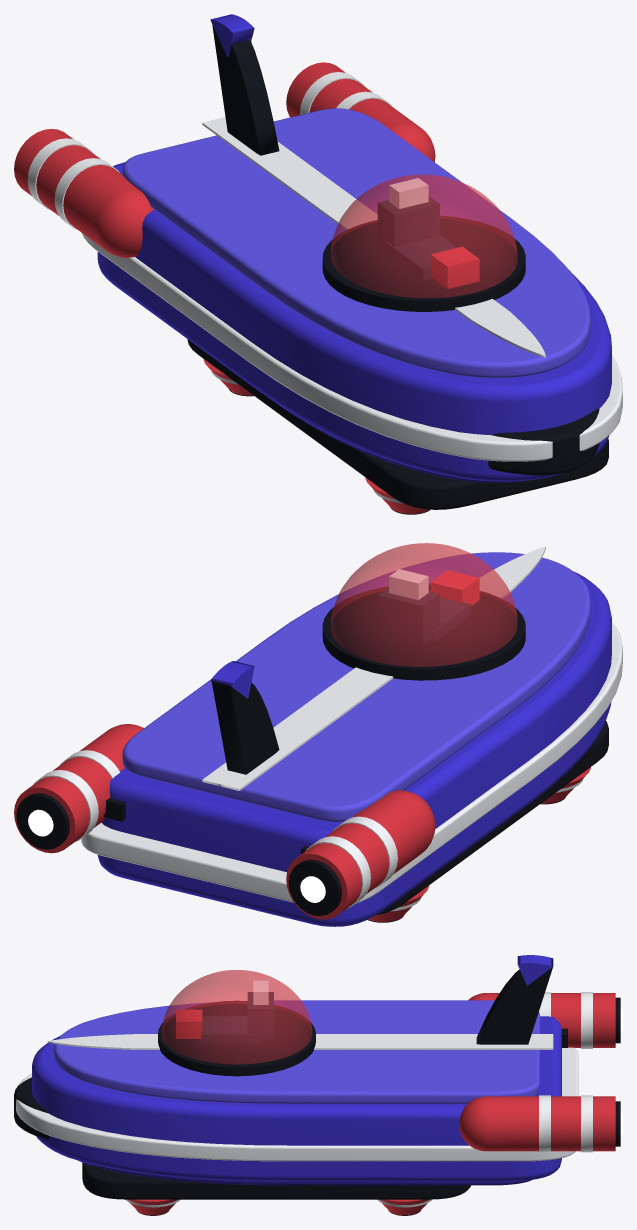
File: enemy_kart.glb
3 views of the same model, one above another, from view 1: azimuth 30°, elevation 25°; view 2: azimuth 150°, elevation 25°; view 3: azimuth 270°, elevation 25° (orthographic). The views are drawn at different scales.
Parts seen in each view (by area): view 1: Hull, Cockpit, ThrusterPod_R, HoverPad, RearFin, ThrusterPod_L; view 2: Hull, Cockpit, ThrusterPod_R, ThrusterPod_L, RearFin, HoverPad, HoverCone_R_R; view 3: Hull, Cockpit, ThrusterPod_L, HoverPad, RearFin, ThrusterPod_R, HoverCone_R_L, HoverCone_F_L.
Boxes of the visible parts, <box> form: Hull: <box>82,108,622,482</box>; Cockpit: <box>322,174,525,311</box>; ThrusterPod_R: <box>14,129,153,257</box>; HoverPad: <box>187,339,608,509</box>; RearFin: <box>210,14,279,155</box>; ThrusterPod_L: <box>286,62,435,161</box>; Hull: <box>81,546,622,926</box>; Cockpit: <box>322,543,525,680</box>; ThrusterPod_R: <box>286,790,435,919</box>; ThrusterPod_L: <box>14,724,143,853</box>; RearFin: <box>210,661,279,774</box>; HoverPad: <box>376,721,608,915</box>; HoverCone_R_R: <box>367,885,429,922</box>; Hull: <box>14,1000,578,1185</box>; Cockpit: <box>158,970,315,1076</box>; ThrusterPod_L: <box>459,1095,622,1152</box>; HoverPad: <box>82,1162,470,1199</box>; RearFin: <box>476,955,553,1044</box>; ThrusterPod_R: <box>468,992,622,1048</box>; HoverCone_R_L: <box>377,1199,432,1215</box>; HoverCone_F_L: <box>125,1199,180,1215</box>.
Bounding box in the file's own units: 2.52 × 2.08 × 5.08.
